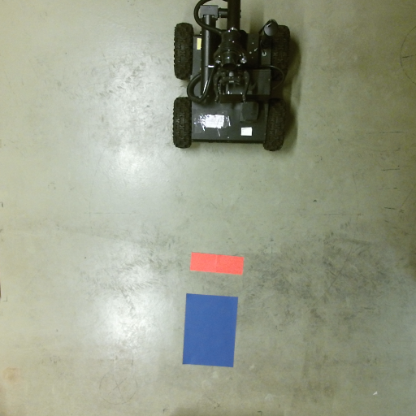Blue: (182, 293, 239, 366)
Jaguar: (170, 0, 290, 155)
Red: (188, 250, 245, 277)
